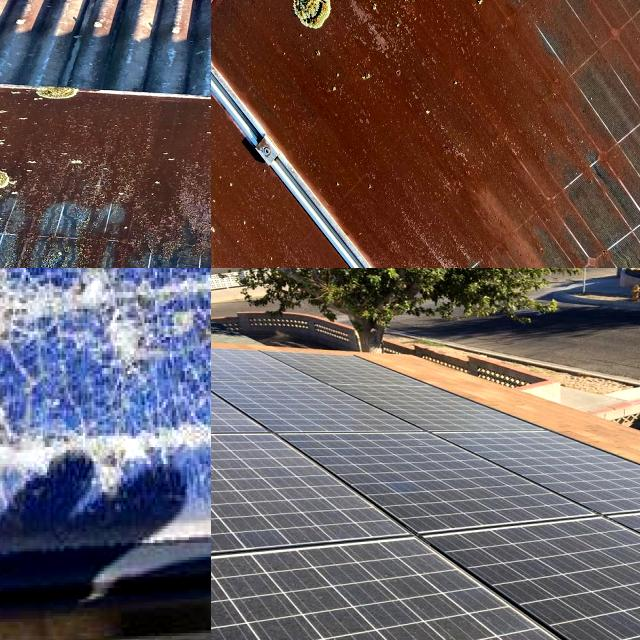dust: (19, 85, 187, 268), (342, 0, 496, 142), (399, 182, 569, 268), (0, 84, 67, 268), (268, 165, 386, 263), (226, 577, 454, 627), (514, 550, 640, 640), (510, 0, 586, 147), (591, 0, 640, 197), (211, 69, 258, 268), (408, 0, 513, 84), (268, 0, 333, 133), (282, 482, 372, 553), (211, 439, 264, 557), (337, 0, 401, 83), (225, 0, 258, 64)
hotspot: (0, 384, 211, 543), (0, 268, 211, 382)
